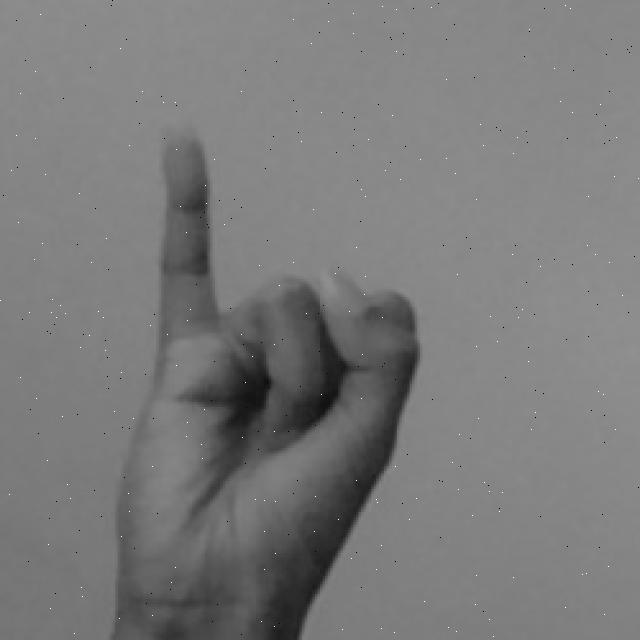I: (99, 124, 428, 640)
